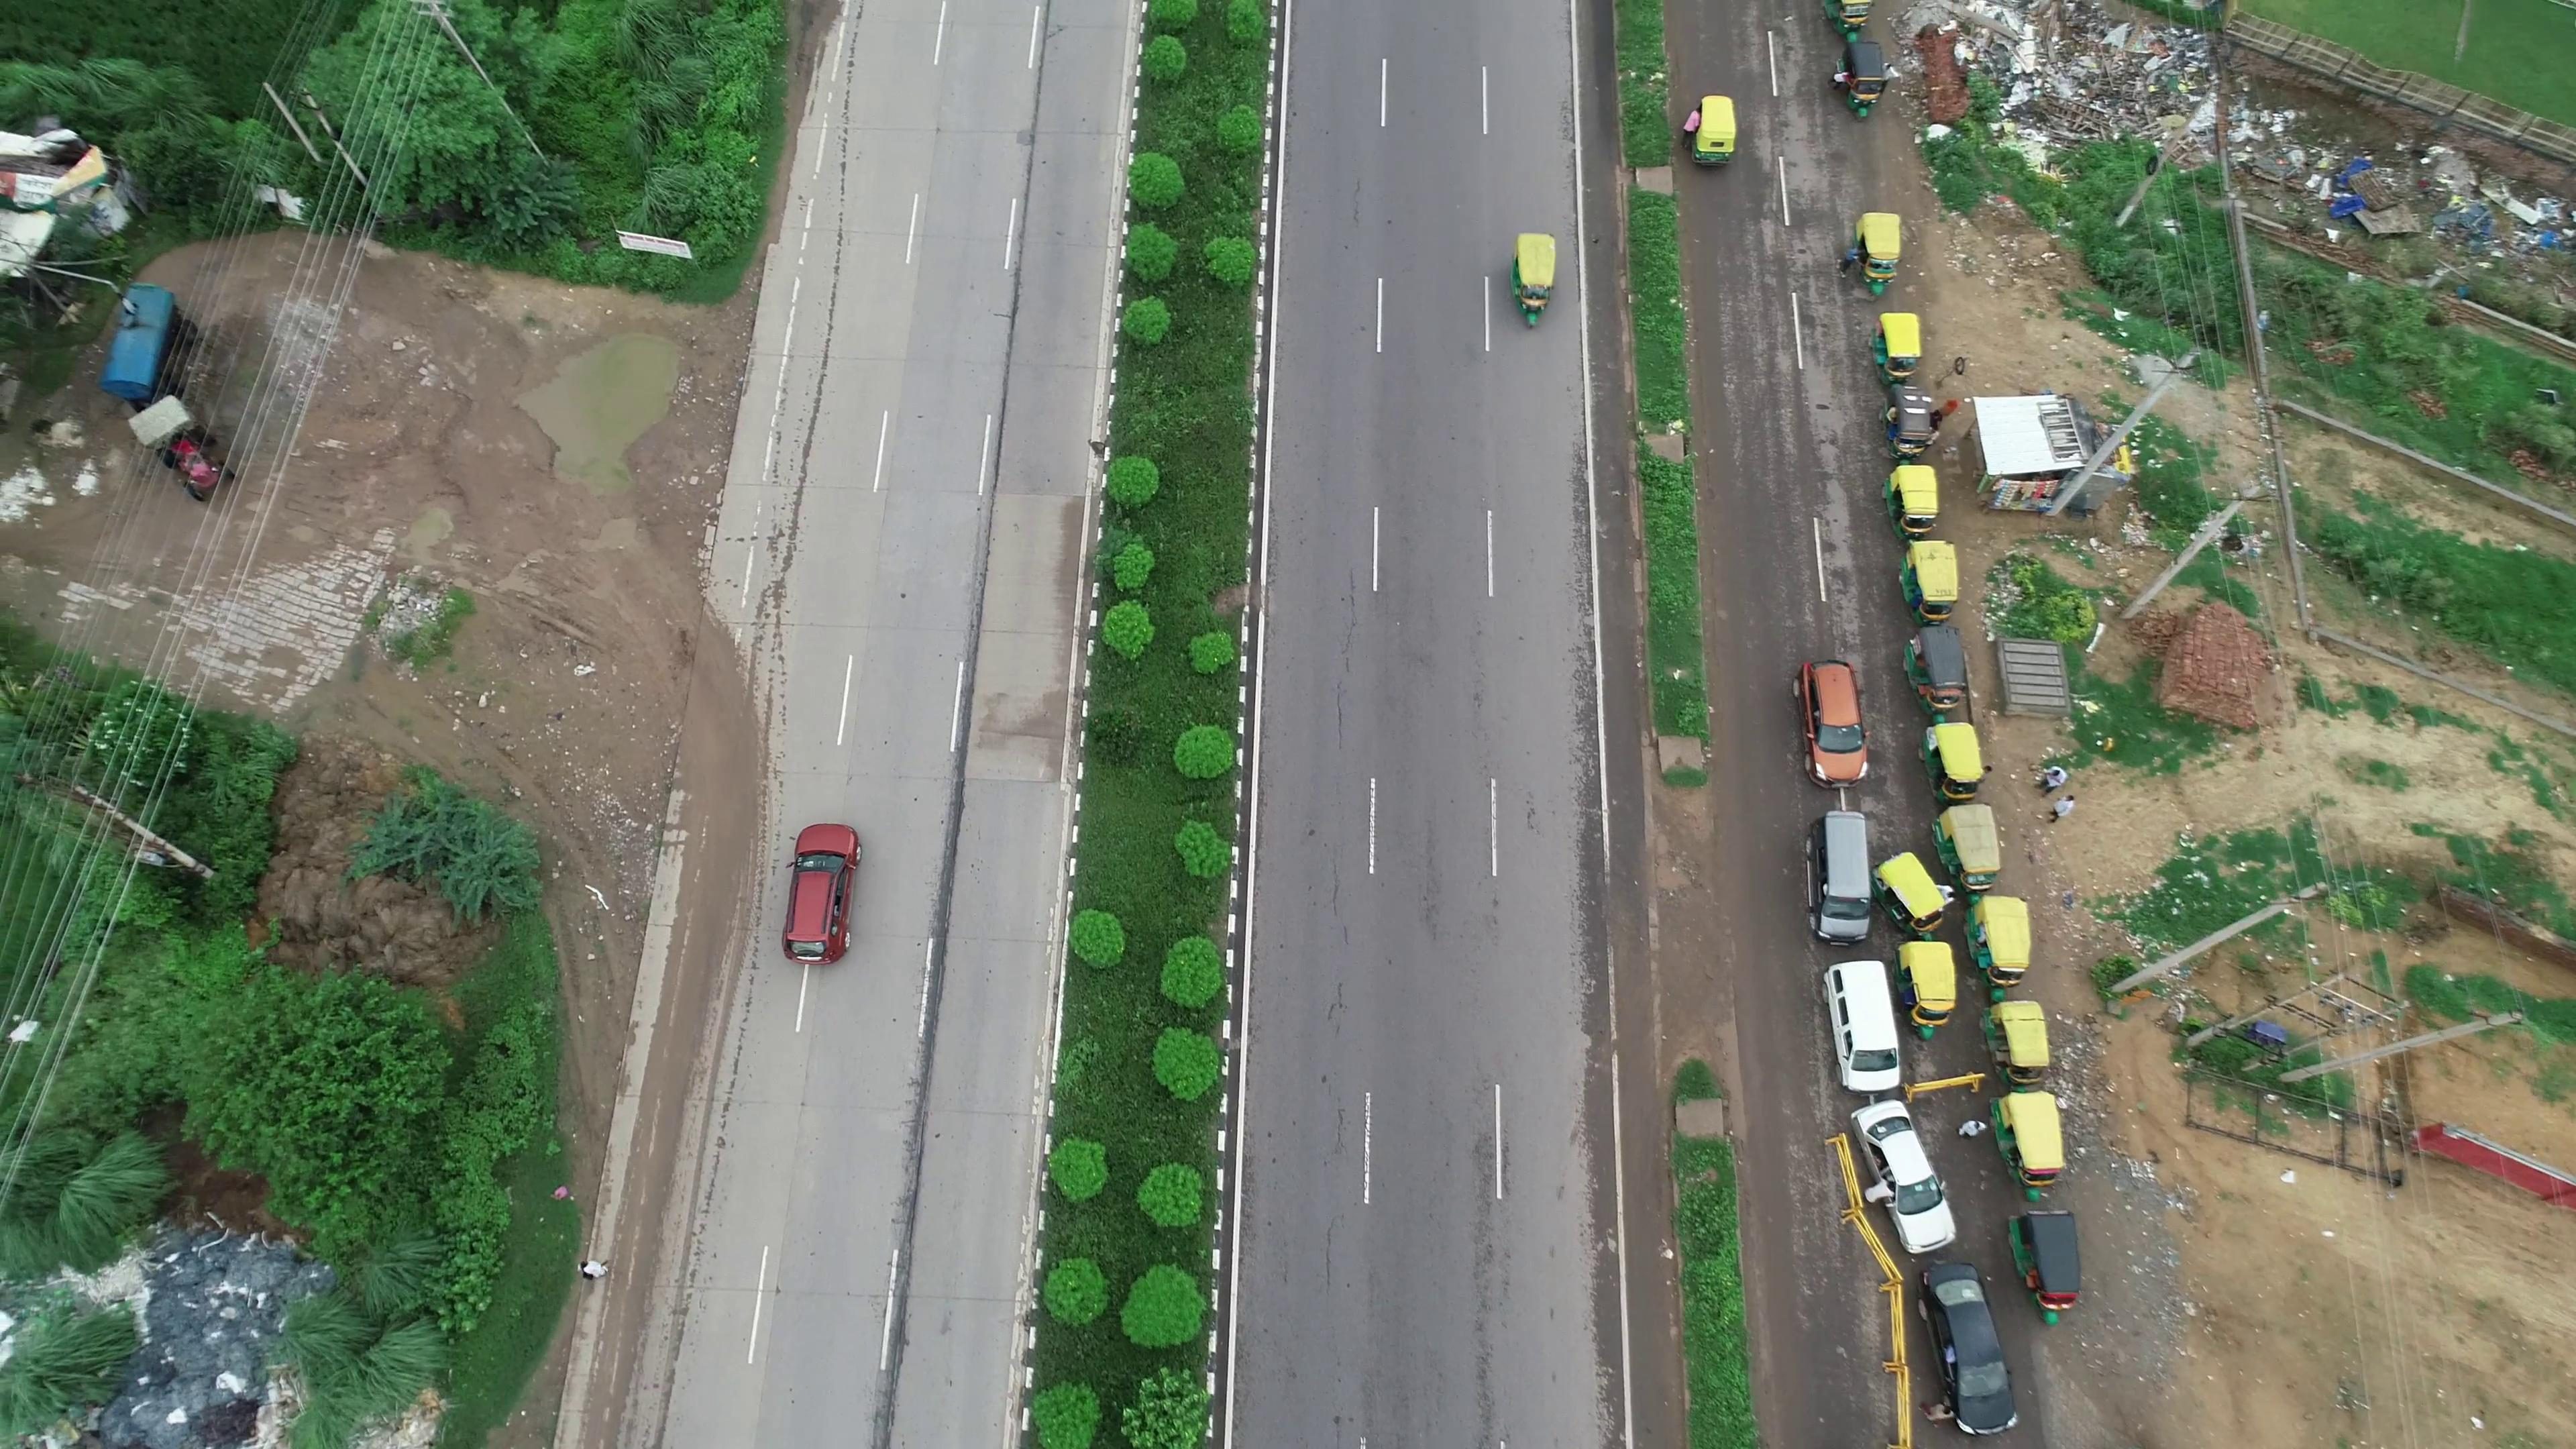Longitudinal_cracks: (1315, 556, 1373, 771)
